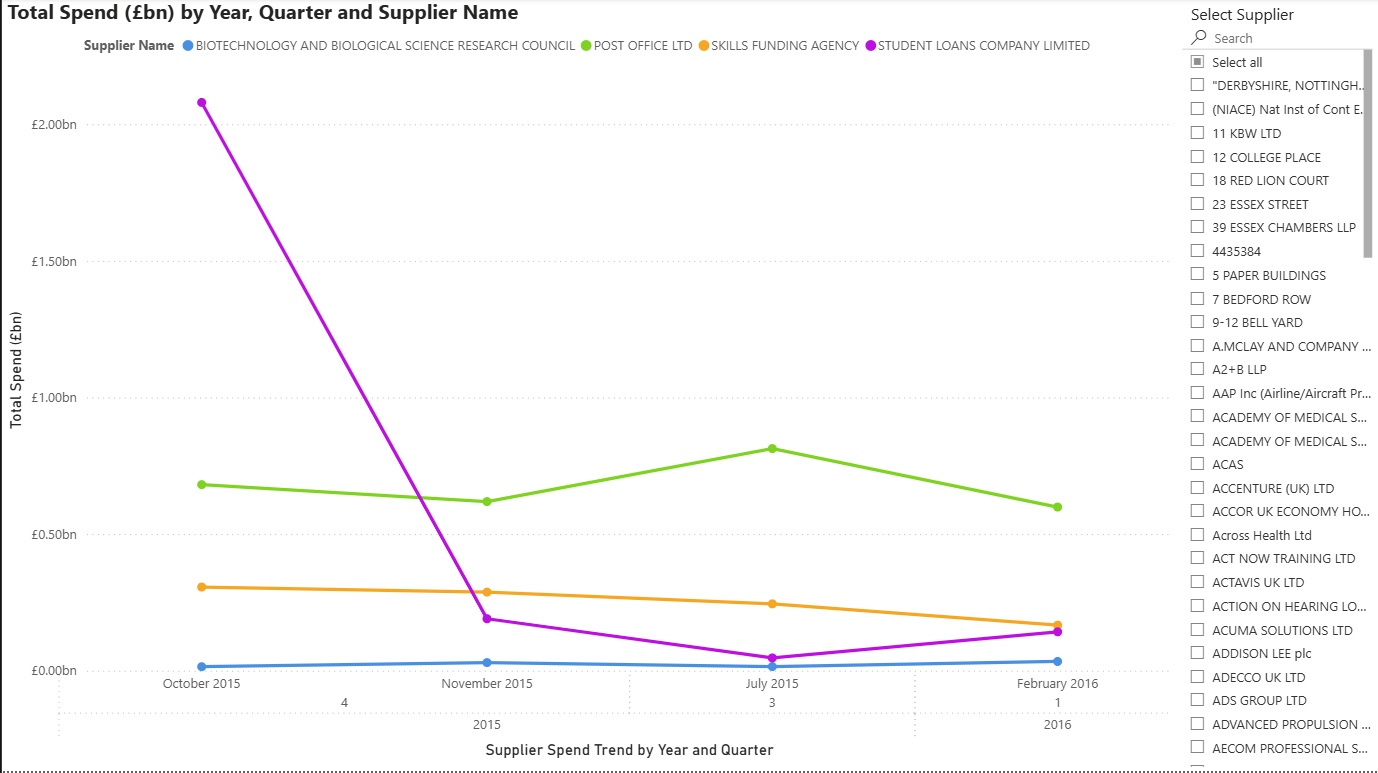

Layout of this report page (visuals, bound fields, positions):
{"tool":"powerbi","page":{"name":"Page 4","canvas":[1280,720],"ordinal":3},"visuals":[{"type":"lineChart","title":"Total Spend (£bn) by Year, Quarter and Supplier Name","fields":{"Category":["vw_SupplierTimeHierarchyAnalysis.Year","vw_SupplierTimeHierarchyAnalysis.Quarter","vw_SupplierTimeHierarchyAnalysis.MonthLabel"],"Y":["vw_SupplierTimeHierarchyAnalysis.MonthlyTotal"],"Series":["vw_SupplierTimeHierarchyAnalysis.SupplierName"]},"box":[0,0,1093.3,712.2],"z":0},{"type":"slicer","fields":{"Values":["vw_SupplierTimeHierarchyAnalysis.SupplierName"]},"box":[1093.3,0,186.7,720],"z":1000}]}

Visuals, with their boxes in screenshot pixels (x1, y1, x2, y2), scaled from the page's 1280x720 canvas onto the 1378x773 screenshot:
"Total Spend (£bn) by Year, Quarter and Supplier Name" lineChart: (x1=0, y1=0, x2=1177, y2=765)
slicer - vw_SupplierTimeHierarchyAnalysis.SupplierName: (x1=1177, y1=0, x2=1377, y2=772)
